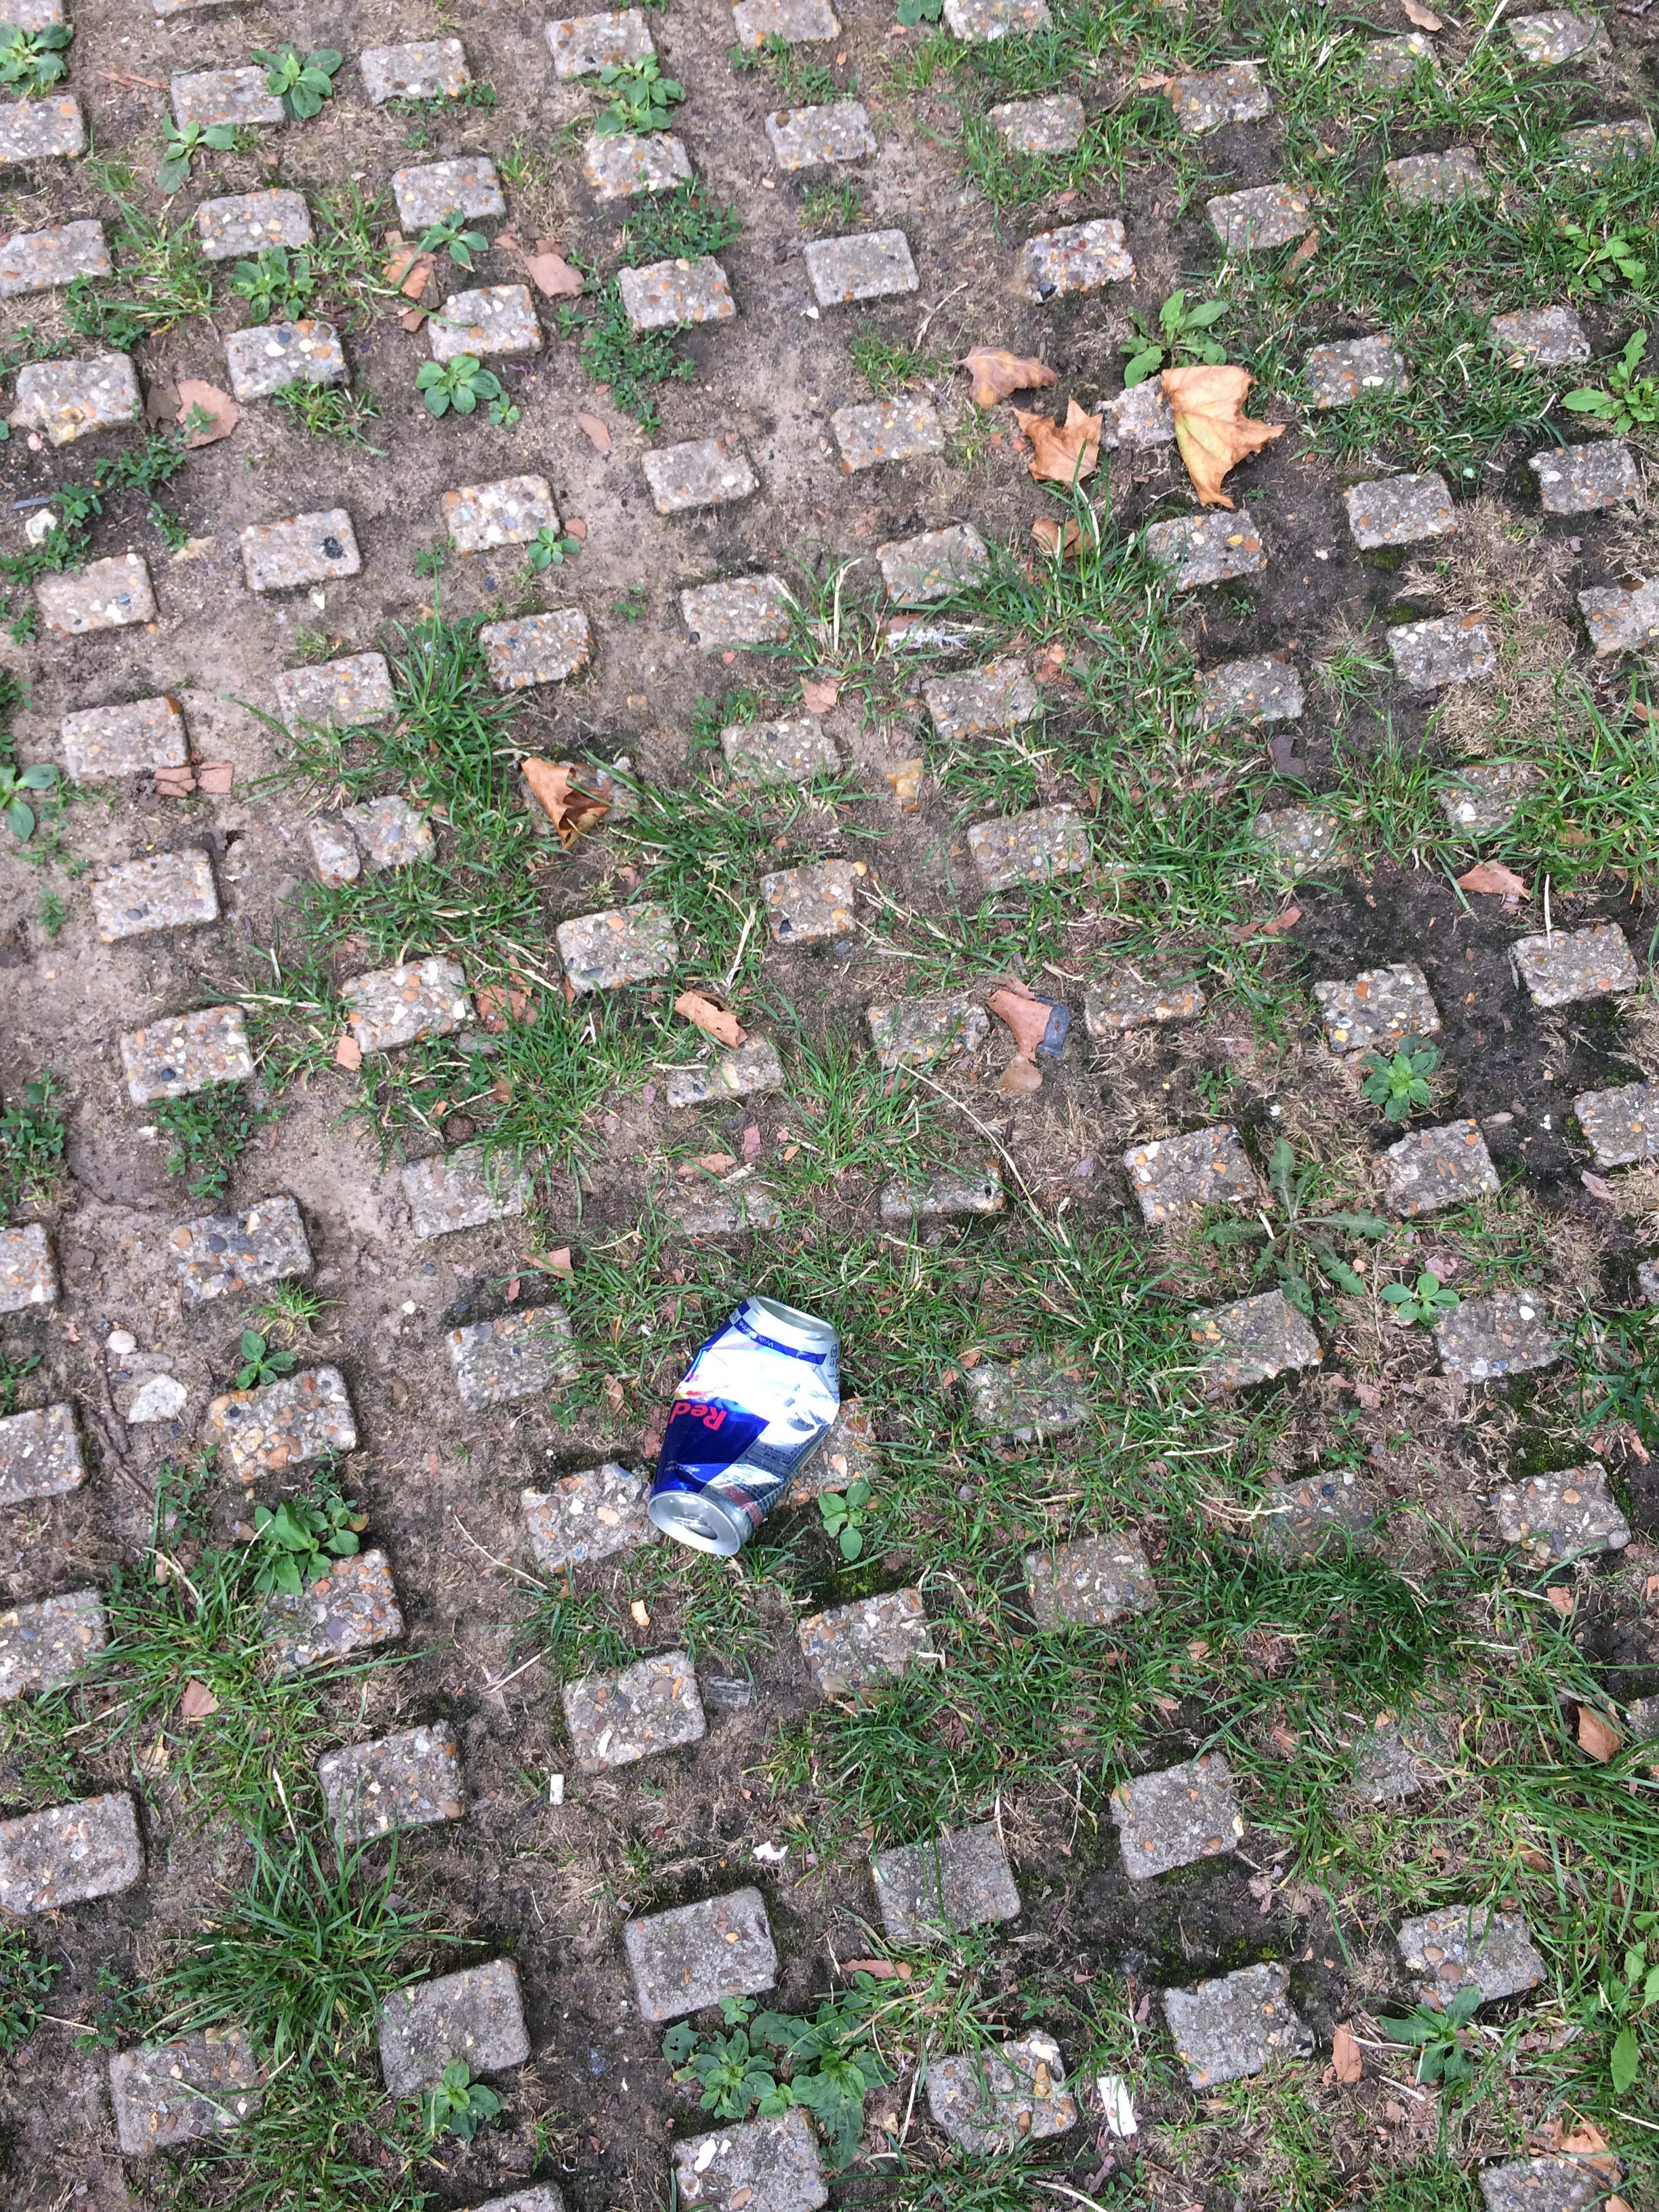Trash: (641, 1294, 826, 1547)
